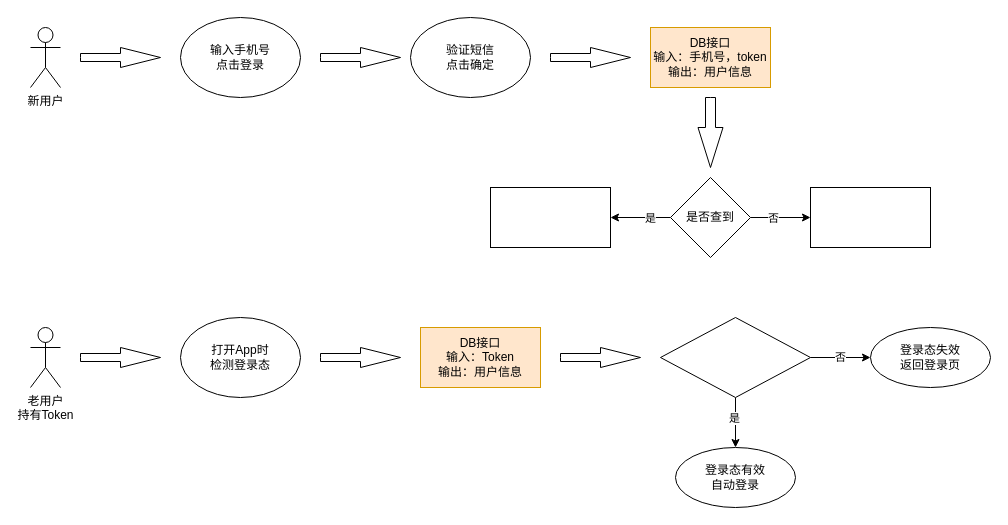
Some shapes in this 1008 by 525 pixel diagram are drawn without their labels. Each missing label, with the centre of its shape:
"信息返回客户端 是否有效" belongs at point (735, 357).
"刷新Token 刷新有效期 返回用户信息到客户端" belongs at point (550, 217).
"登记用户信息 返回用户信息到客户端" belongs at point (870, 217).
